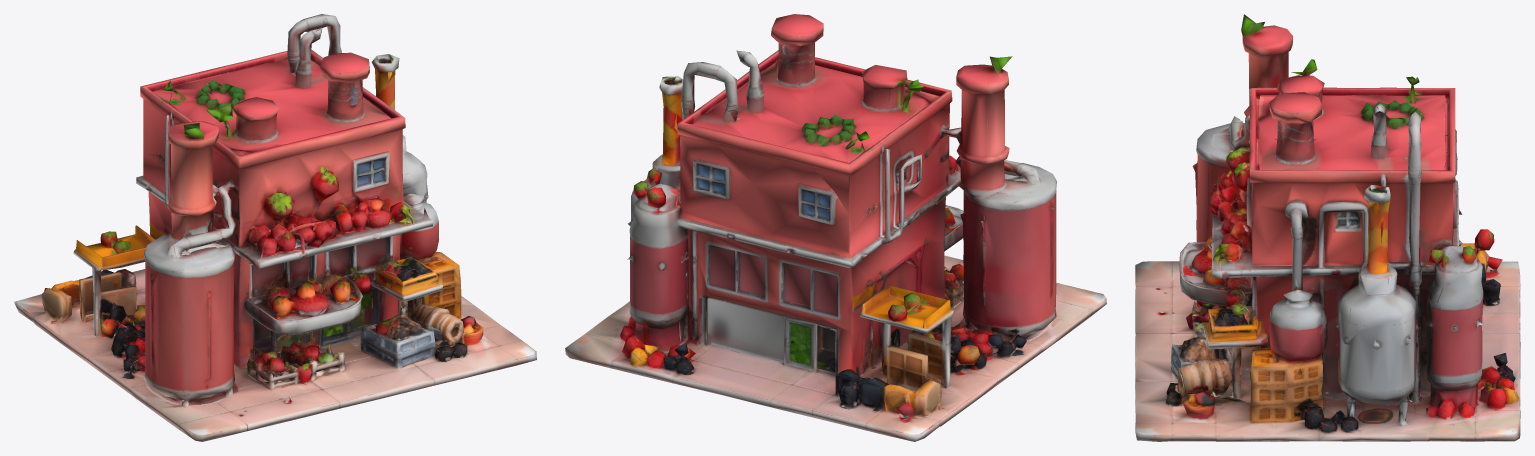
File: Meshy_AI_Berry_Factory_0202123715_texture.fbx
The picture shows the model from 3 angles, left to right: view 1: azimuth 30°, elevation 25°; view 2: azimuth 150°, elevation 25°; view 3: azimuth 270°, elevation 25°; orthographic projection. The views are drawn at different scales.
Parts seen in each view (by area): view 1: Mesh1.0; view 2: Mesh1.0; view 3: Mesh1.0.
Boxes of the visible parts, x1,y1,x2,y2 form: Mesh1.0: [14, 14, 536, 441]; Mesh1.0: [565, 14, 1106, 441]; Mesh1.0: [1135, 14, 1520, 441].
Bounding box in the file's own units: 201 × 151 × 188.
Materials: 1 (1 with a texture image).
